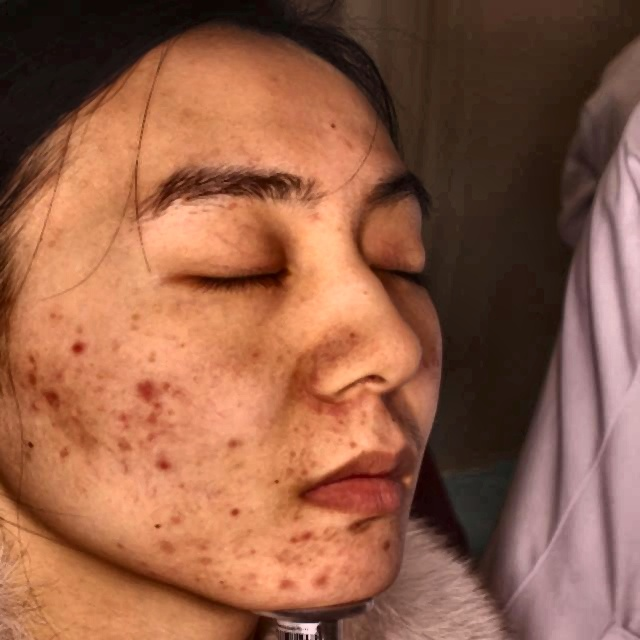pustule: (189, 543, 226, 581), (19, 354, 46, 392), (308, 568, 339, 600), (290, 523, 322, 552), (268, 543, 300, 570), (148, 454, 177, 482), (37, 388, 63, 418), (133, 373, 156, 405), (274, 567, 296, 597), (150, 539, 190, 554), (141, 405, 158, 437), (67, 333, 84, 361)
